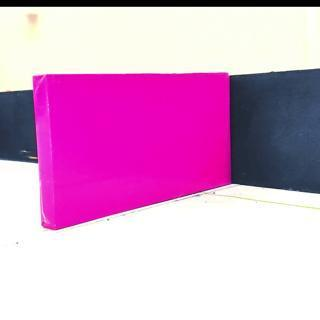xparking: (34, 75, 230, 200)
